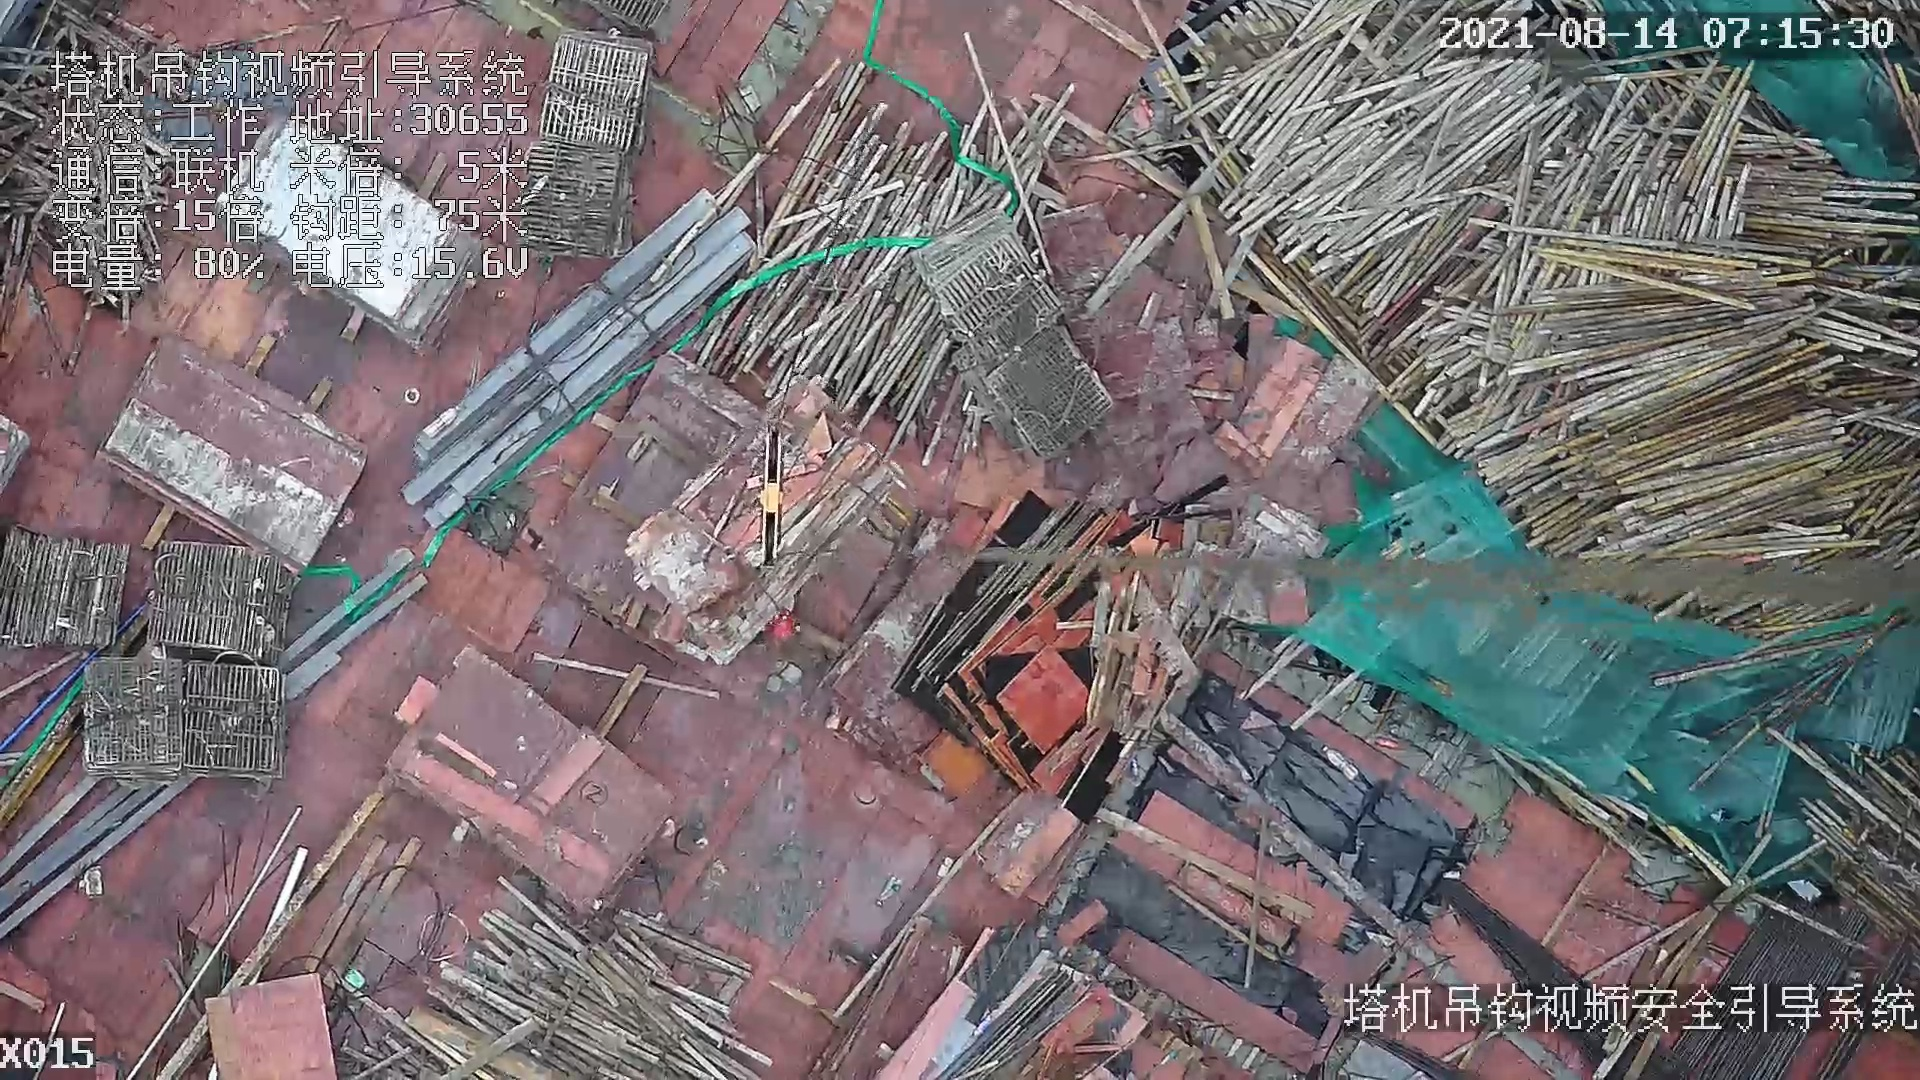hook: (744, 422, 793, 560)
